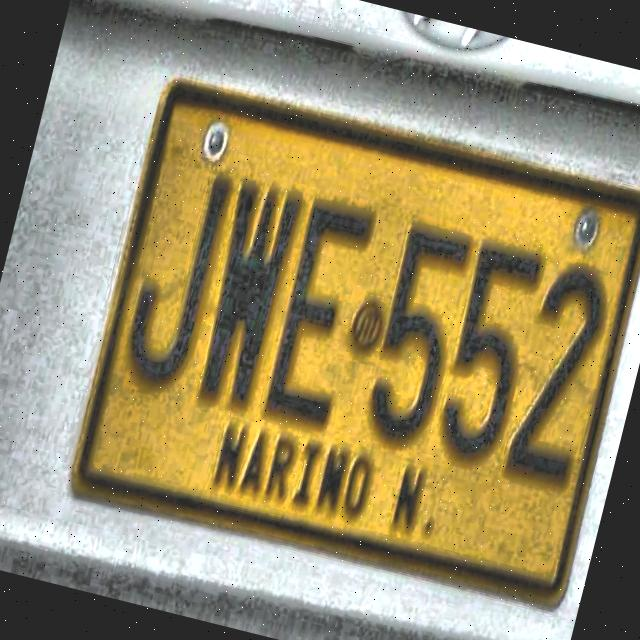plate: (73, 83, 640, 599)
